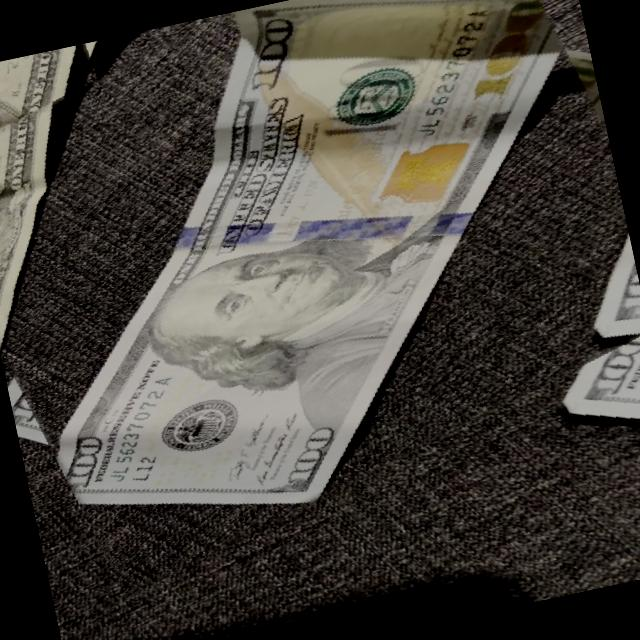hundred: (0, 38, 149, 277), (533, 284, 640, 450)
